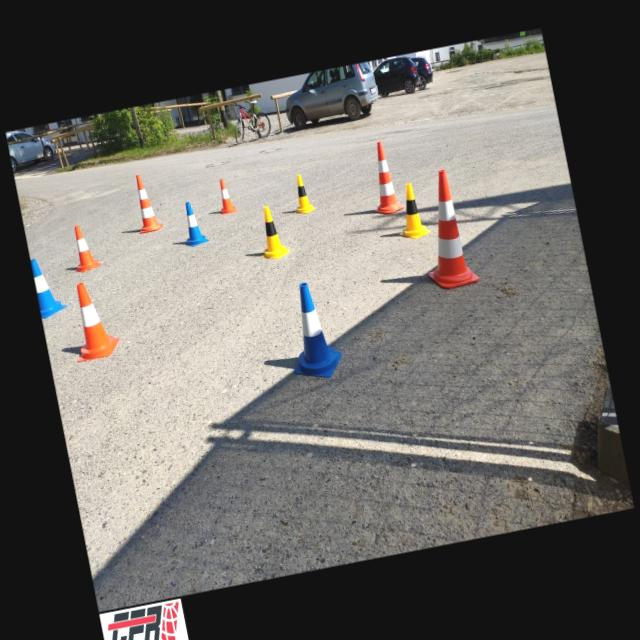blue_cone: (277, 278, 346, 384), (31, 254, 68, 318), (179, 200, 209, 248)
large_orange_cone: (410, 167, 480, 290), (362, 139, 404, 217), (130, 172, 164, 234)
orange_cone: (64, 278, 122, 362), (68, 222, 101, 273), (215, 177, 238, 214)
yellow_cone: (390, 180, 431, 242), (252, 202, 292, 262), (288, 172, 316, 214)
